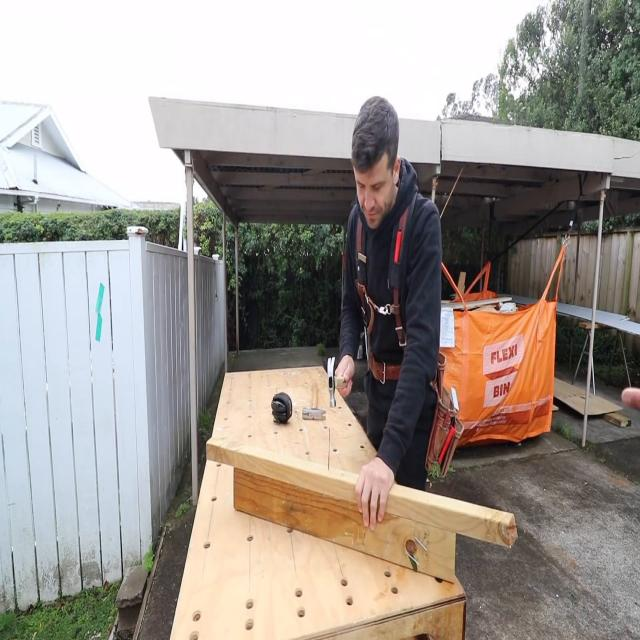hammer: (328, 357, 347, 407), (302, 388, 326, 420)
